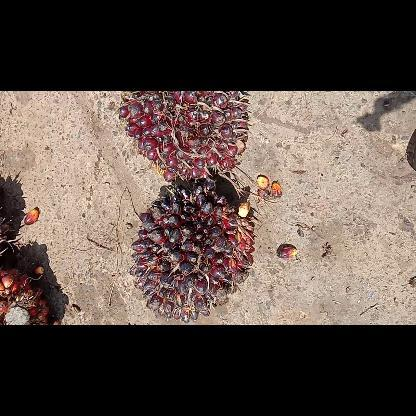Kurang masak: (128, 176, 256, 324), (113, 90, 252, 184)
